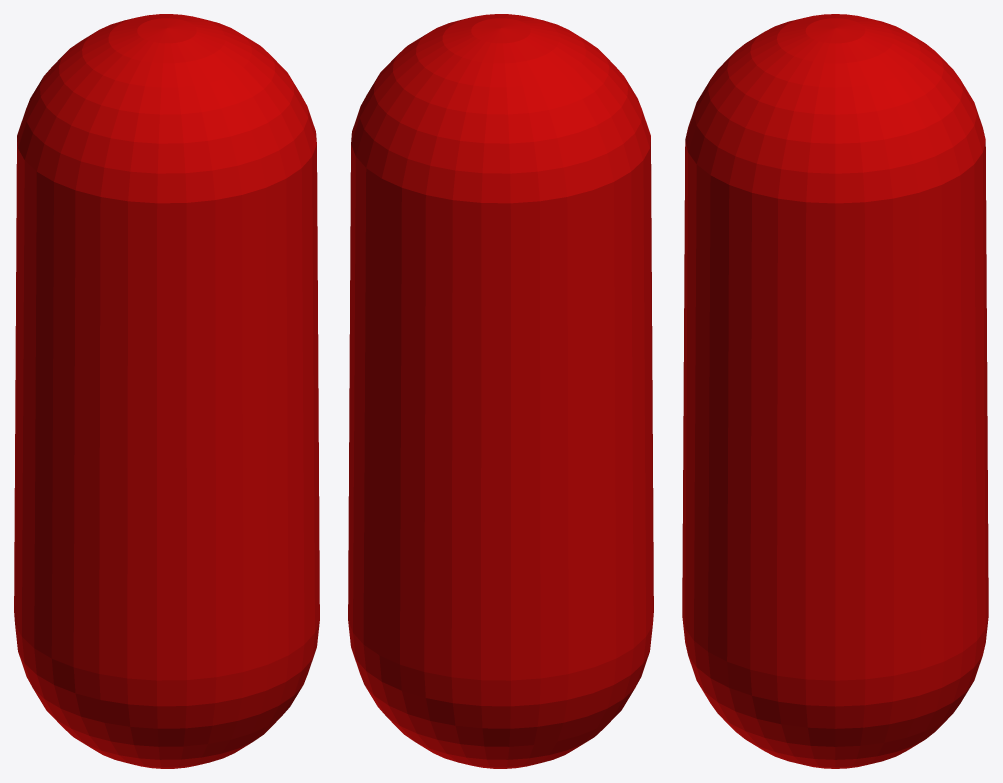
File: enemy.glb
3 views of the same model, side by side, from view 1: azimuth 30°, elevation 25°; view 2: azimuth 150°, elevation 25°; view 3: azimuth 270°, elevation 25° (orthographic).
Visible parts, largest first — view 1: Sphere; view 2: Sphere; view 3: Sphere.
Part boxes in pixels (box(x1,y1,x2,y2)): Sphere: box(14, 14, 319, 768); Sphere: box(348, 14, 653, 768); Sphere: box(682, 14, 988, 768).
Size of the model in its own units: 2 by 5.23 by 2.
Materials: 1 (1 with a texture image).
